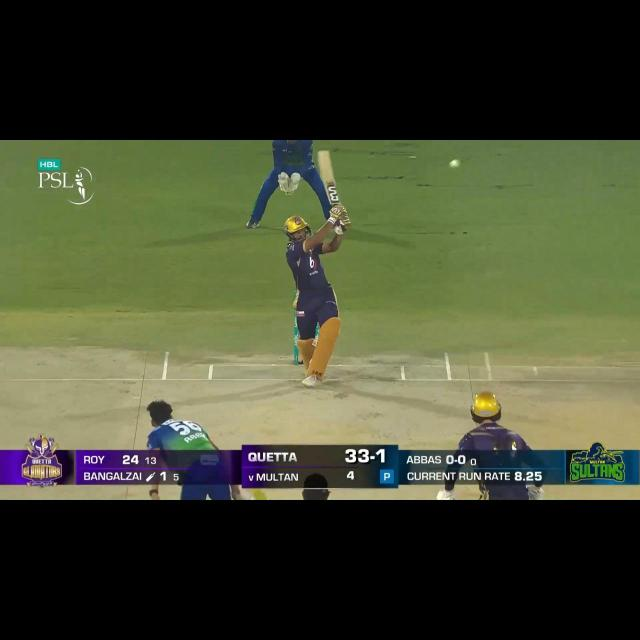bat: (317, 151, 341, 208)
toe: (318, 152, 330, 162)
